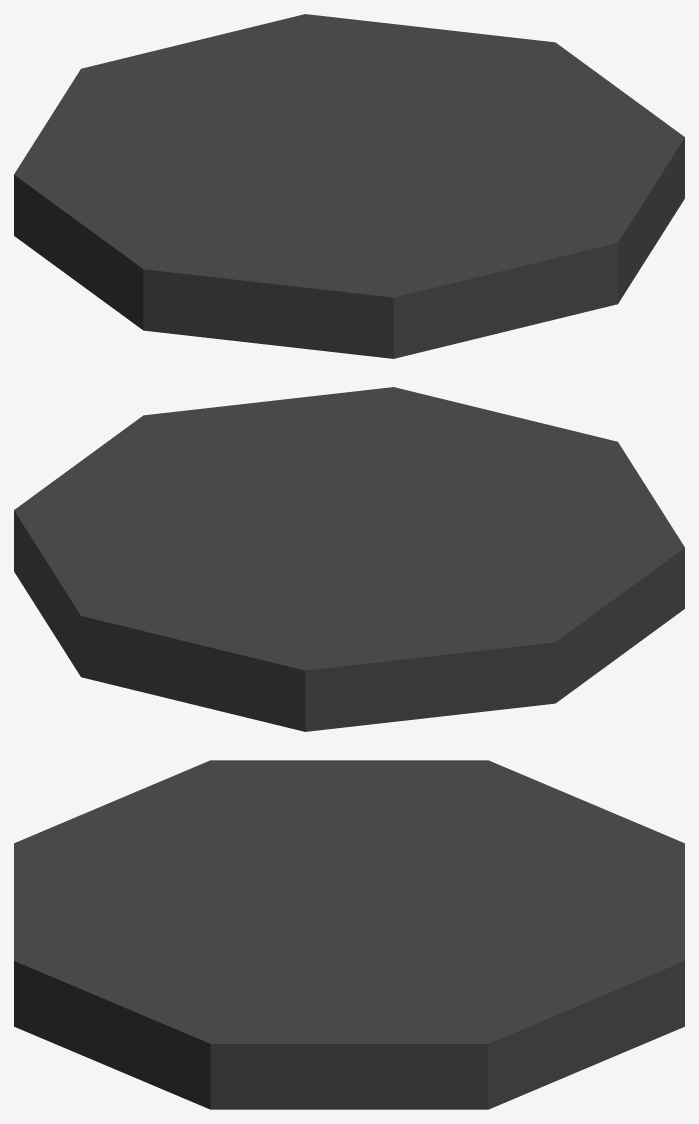
File: Bin_02.fbx
3 views of the same model, one above another, from view 1: azimuth 30°, elevation 25°; view 2: azimuth 150°, elevation 25°; view 3: azimuth 270°, elevation 25° (orthographic). The views are drawn at different scales.
Parts seen in each view (by area): view 1: Bin_02; view 2: Bin_02; view 3: Bin_02.
Boxes of the visible parts, x1=… form: Bin_02: x1=14, y1=14, x2=684, y2=358; Bin_02: x1=14, y1=387, x2=684, y2=731; Bin_02: x1=14, y1=760, x2=684, y2=1109.
Size of the model in its own units: 23.1 by 2.5 by 23.1.
